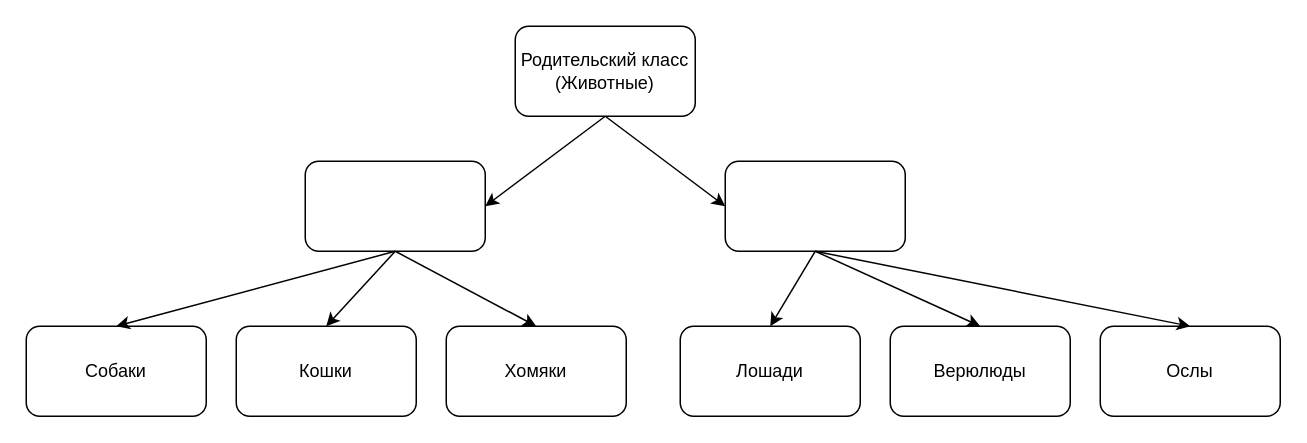
Image size: 1307x443. Some labels were removed from this diagram. Each missing label, with the box of its shape:
Вьючные животные: (724, 160, 905, 251)
Домашние животные: (304, 160, 485, 251)
